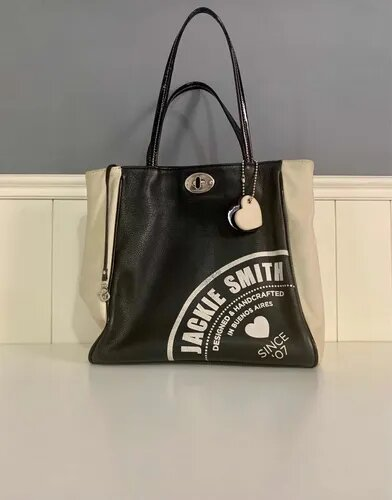cartera: (76, 6, 333, 370)
cuero: (76, 161, 327, 371)
